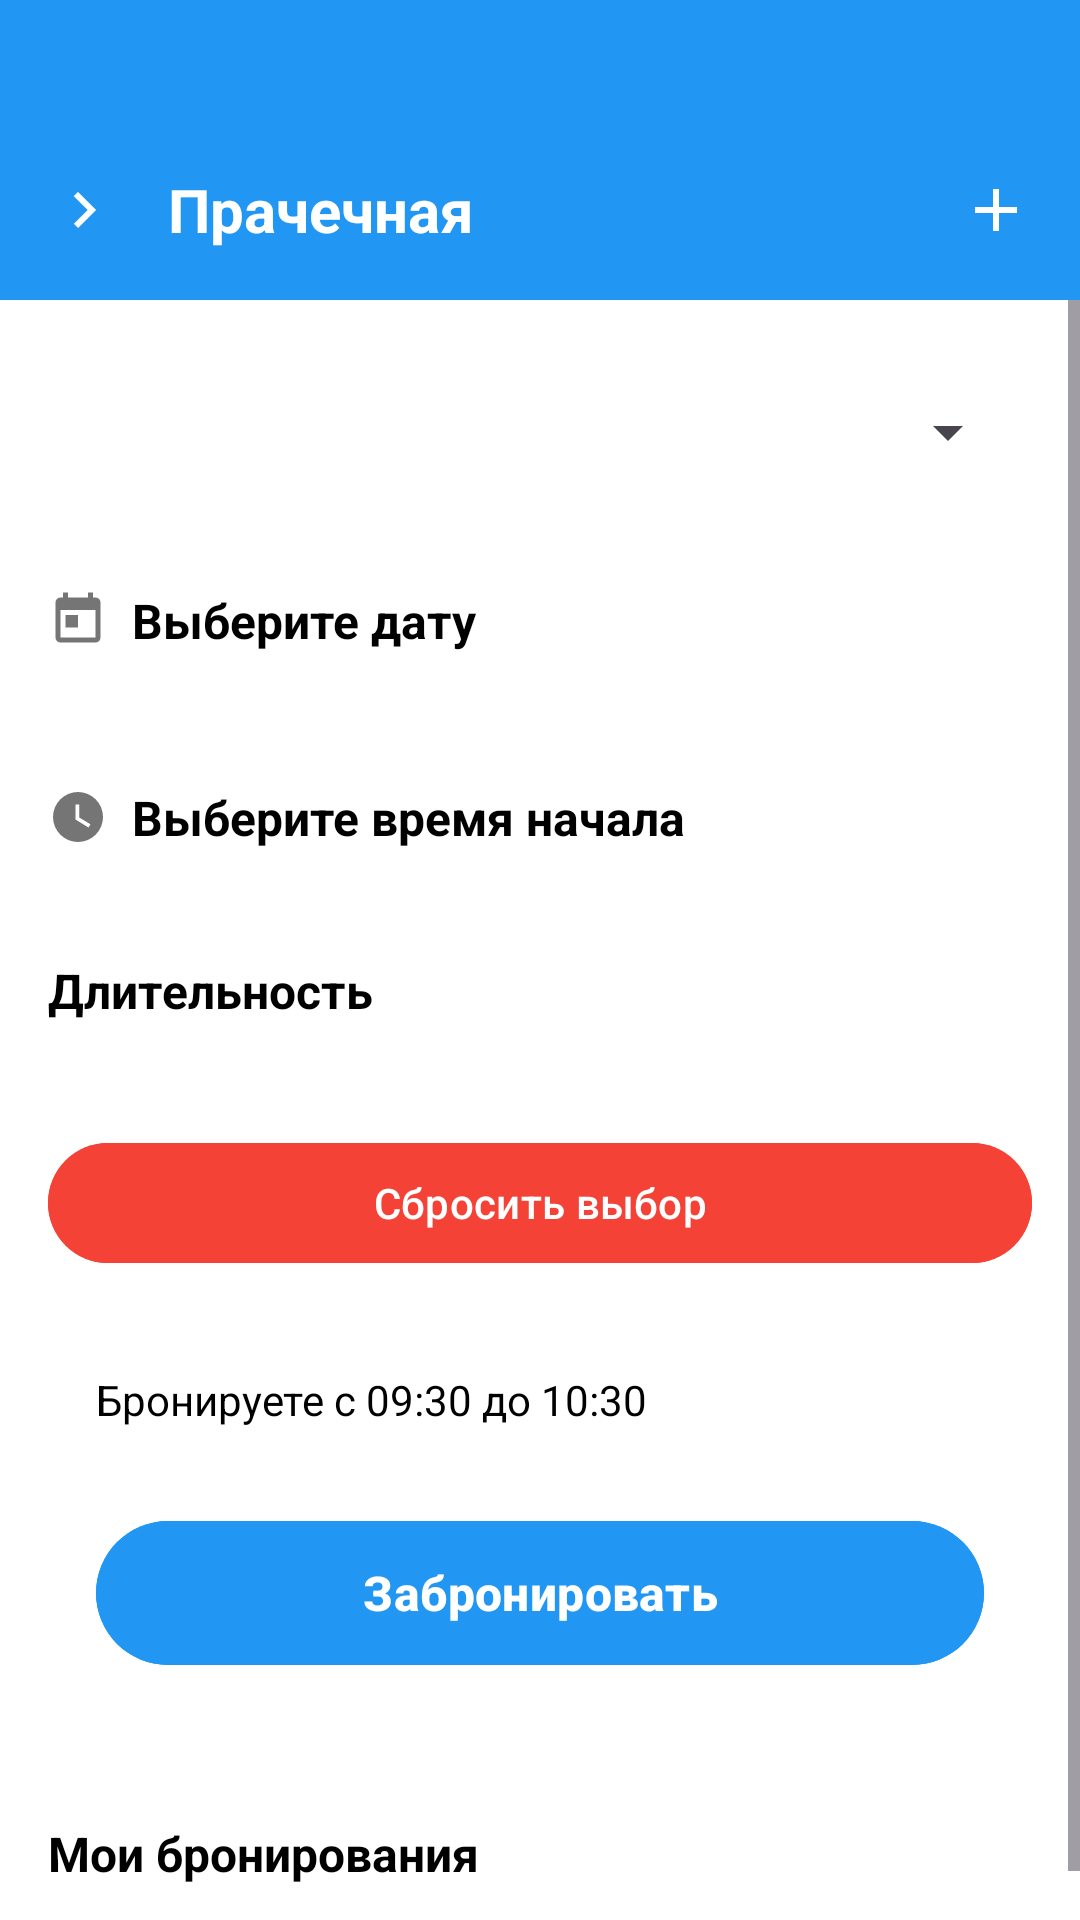

Icon bounding boxes for this 1080 x 1920 phone screenshot, format detection(x1, y1, x2, y2):
add: detection(975, 189, 1017, 231)
arrow right: detection(74, 192, 96, 228)
calendar: detection(55, 592, 101, 643)
clock: detection(53, 792, 103, 842)
